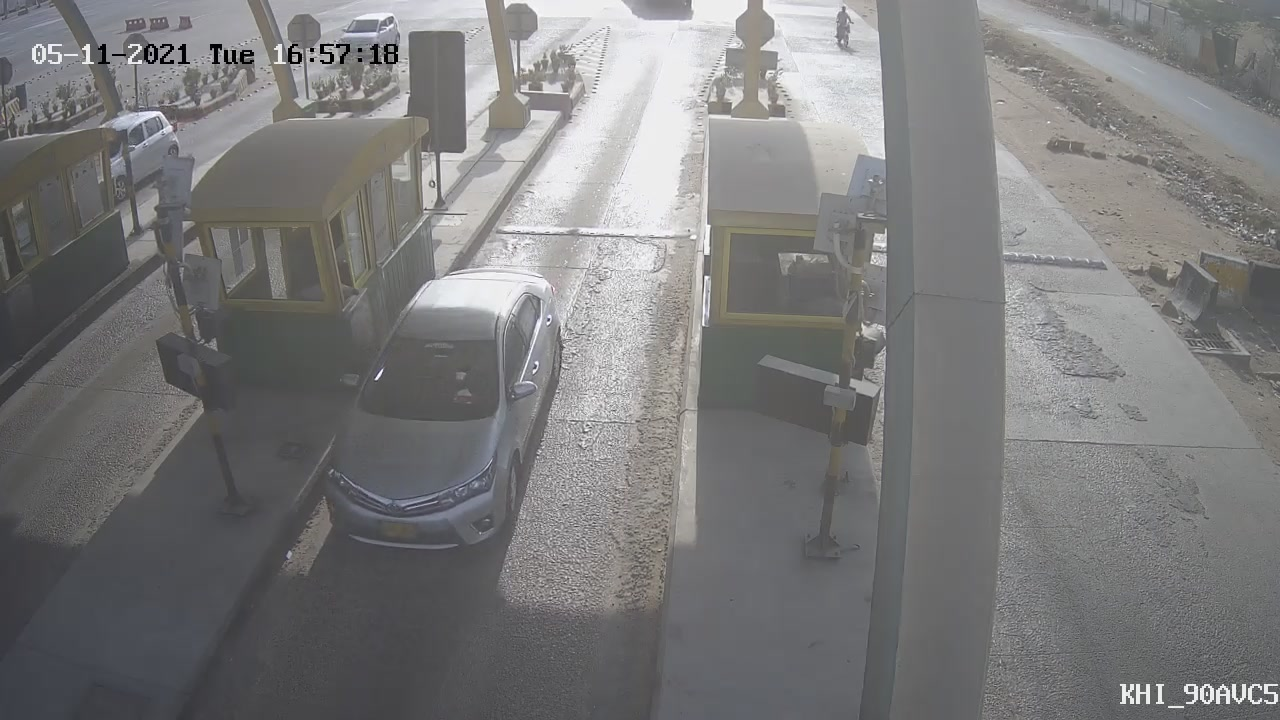F1: (291, 242, 590, 581)
